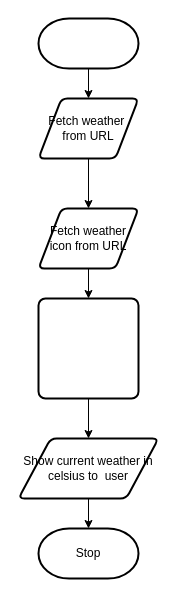
The diagram is 176 pixels wide and 596 high, and some of its shapes have lost their labels. The centre of each missing label's shape, as x and y in pixels:
"Convert from Kalvin to Celsius (tempC = tempK - 273.15)" goes at [88,348].
"Start" goes at [88,43].
